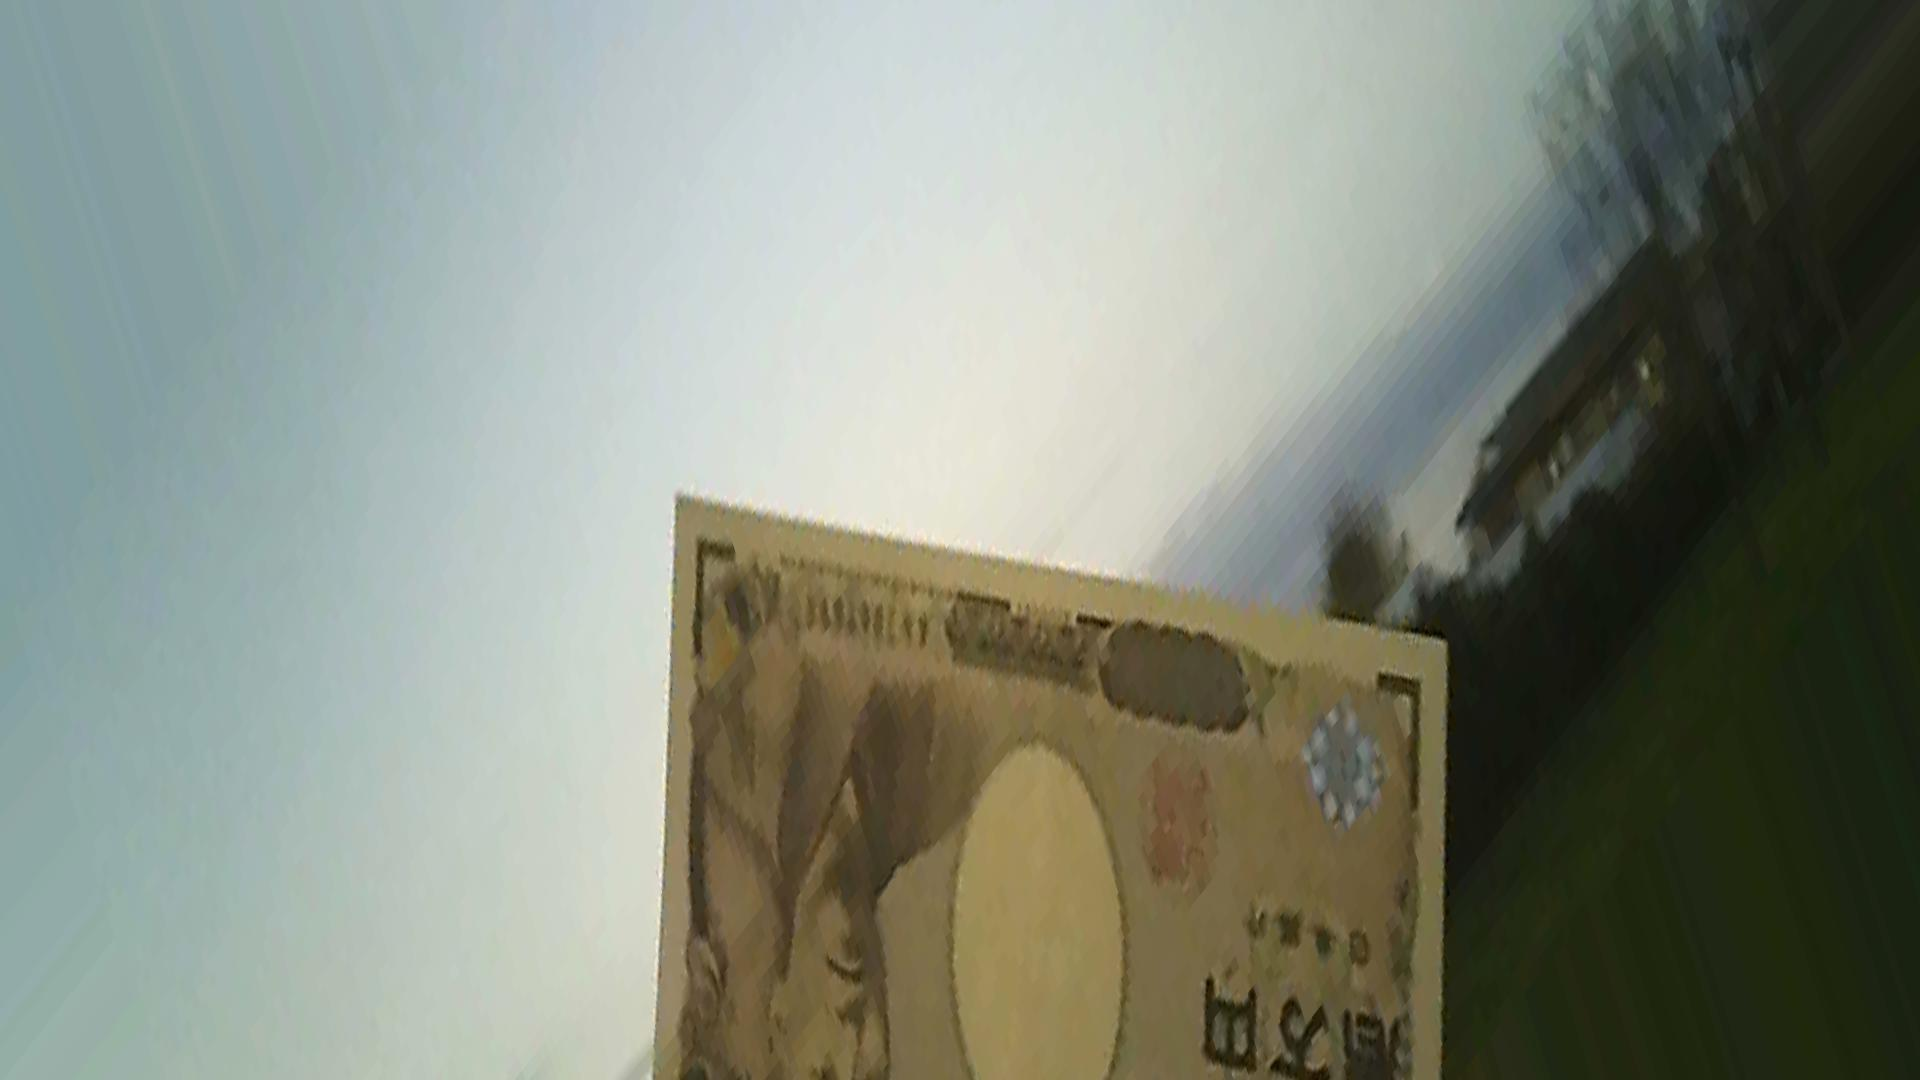10,000 Yen: (637, 452, 1469, 1077)
